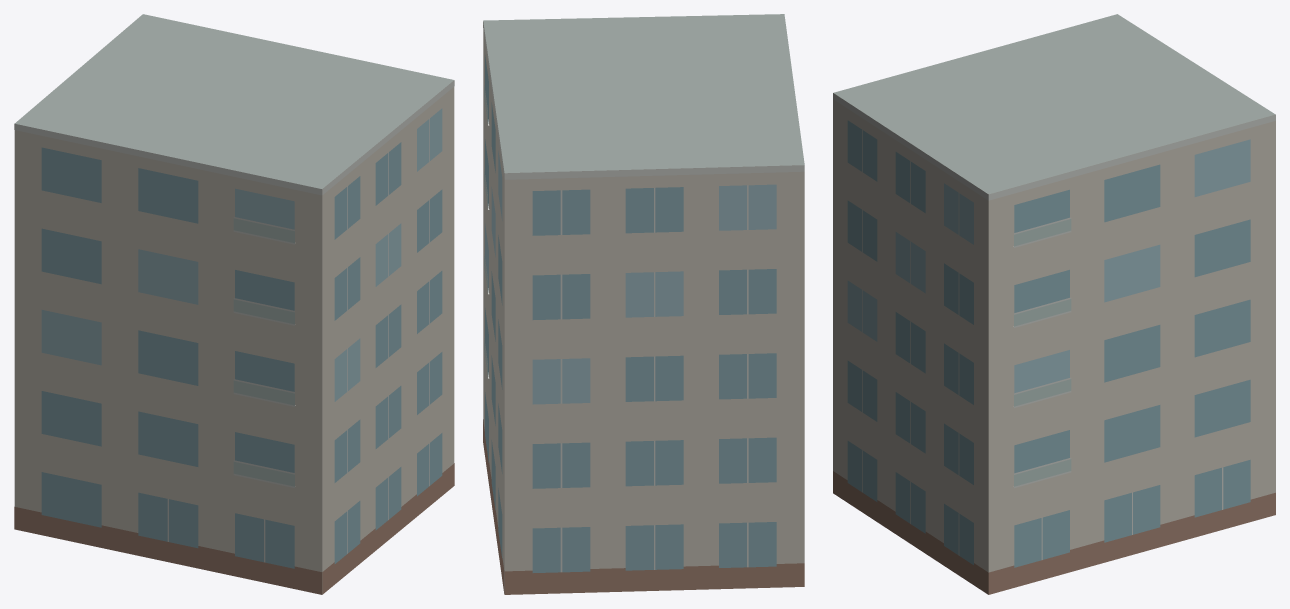
The model's file is survey-upis-33015395.glb.
3 renders of one model, left to right at view 1: azimuth 30°, elevation 25°; view 2: azimuth 150°, elevation 25°; view 3: azimuth 270°, elevation 25°, orthographic. The views are drawn at different scales.
Parts seen in each view (by area): view 1: survey-upis-33015395.tmp; view 2: survey-upis-33015395.tmp; view 3: survey-upis-33015395.tmp.
Part boxes in pixels (box(x1,y1,x2,y2)): survey-upis-33015395.tmp: box(14, 14, 454, 594); survey-upis-33015395.tmp: box(483, 14, 804, 594); survey-upis-33015395.tmp: box(833, 14, 1275, 594).
Bounding box in the file's own units: 15.09 × 15.6 × 15.64.
